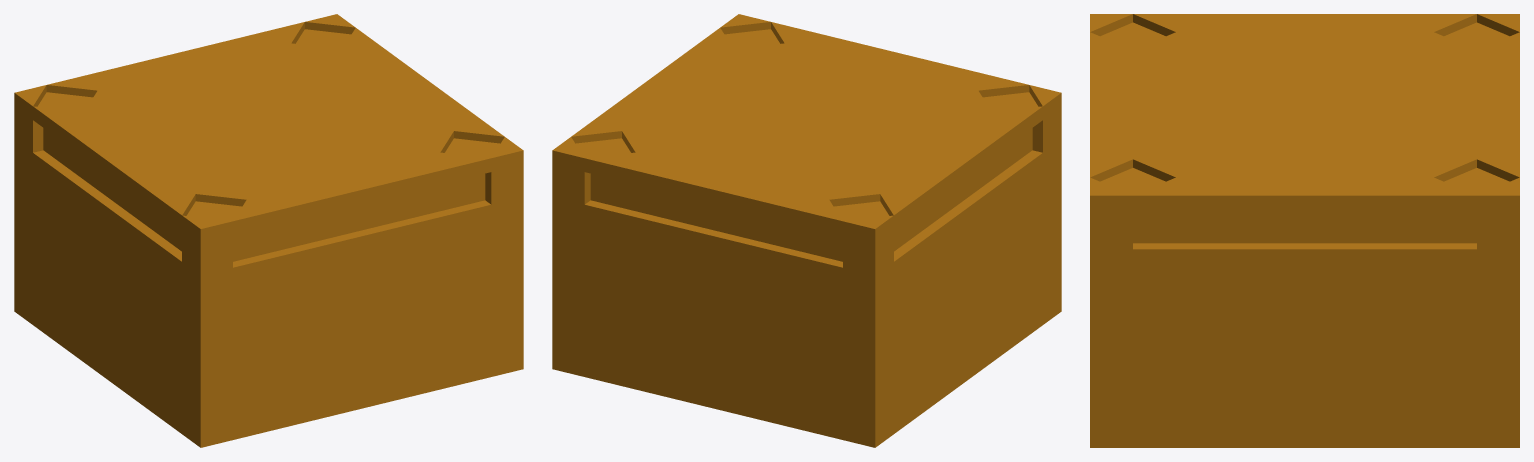
File: stone_foundation_4x4.fbx
3 views of the same model, side by side, from view 1: azimuth 30°, elevation 25°; view 2: azimuth 150°, elevation 25°; view 3: azimuth 270°, elevation 25° (orthographic). The views are drawn at different scales.
Visible parts, largest first — view 1: stone_foundation_4x4; view 2: stone_foundation_4x4; view 3: stone_foundation_4x4.
Boxes of the visible parts, x1,y1,x2,y2 form: stone_foundation_4x4: [14, 14, 523, 447]; stone_foundation_4x4: [552, 14, 1061, 447]; stone_foundation_4x4: [1090, 14, 1519, 447].
Bounding box in the file's own units: 18.2 × 11.79 × 18.2.
